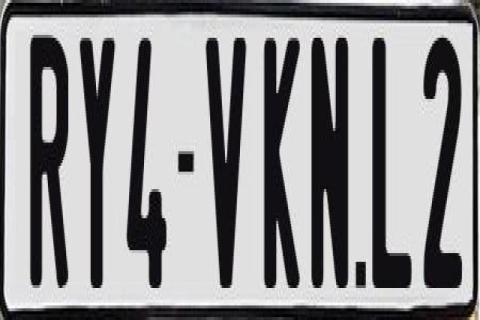0: (123, 29, 168, 288), (421, 38, 461, 288)
K: (262, 32, 304, 285)
L: (372, 35, 416, 288)
N: (309, 38, 351, 300)
R: (27, 29, 68, 282)
V: (206, 29, 250, 288)
Y: (77, 29, 115, 282)
